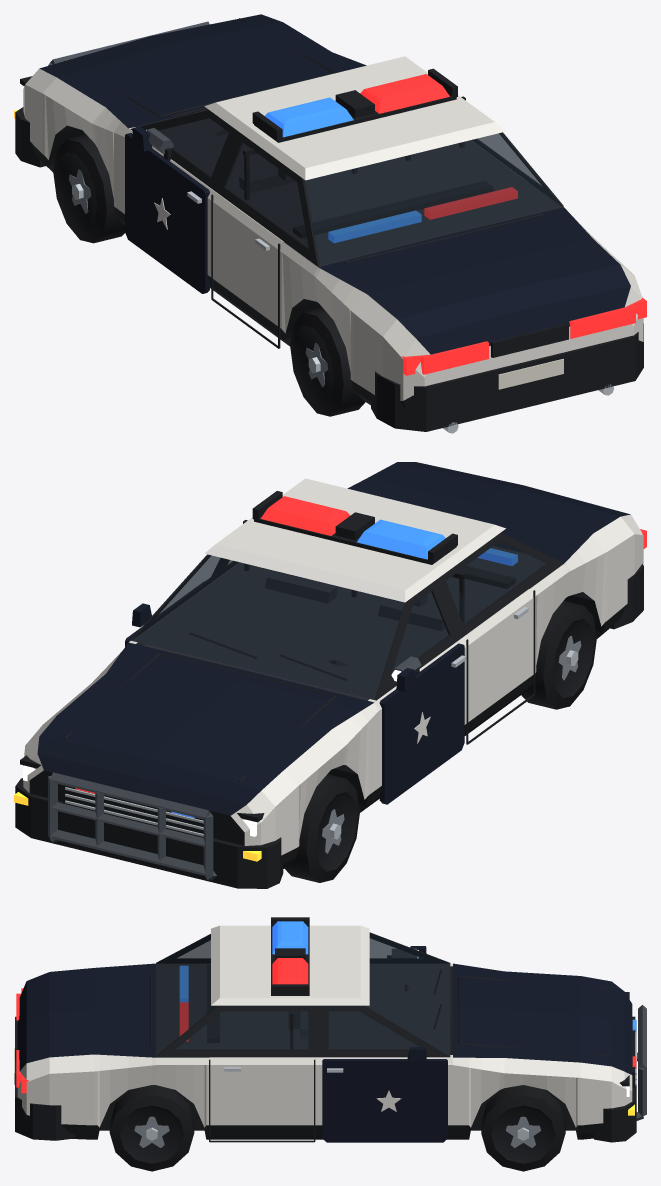
The model's file is police_cruiser.glb.
3 views of the same model, one above another, from view 1: azimuth 30°, elevation 25°; view 2: azimuth 150°, elevation 25°; view 3: azimuth 270°, elevation 25° (orthographic). The views are drawn at different scales.
Visible parts, largest first — view 1: Body, DoorL, Wheel_RL, Wheel_FL, SirenBar, SirenBar_R, SirenBar_L; view 2: Body, DoorL, Wheel_FL, Wheel_RL, SirenBar, SirenBar_R, SirenBar_L, DoorR; view 3: Body, DoorR, Wheel_RR, Wheel_FR, SirenBar, SirenBar_L, SirenBar_R, DoorL.
Boxes of the visible parts, x1,y1,x2,y2 form: Body: (14, 14, 646, 433); DoorL: (125, 110, 235, 293); Wheel_RL: (290, 307, 365, 416); Wheel_FL: (53, 134, 125, 243); SirenBar: (252, 68, 457, 142); SirenBar_R: (360, 74, 449, 113); SirenBar_L: (265, 97, 353, 137); Body: (14, 462, 646, 888); DoorL: (374, 581, 466, 804); Wheel_FL: (284, 774, 359, 882); Wheel_RL: (521, 601, 596, 709); SirenBar: (252, 491, 457, 564); SirenBar_R: (260, 496, 350, 535); SirenBar_L: (357, 519, 445, 559); DoorR: (125, 554, 224, 646); Body: (14, 925, 646, 1142); DoorR: (322, 1005, 450, 1142); Wheel_RR: (109, 1085, 194, 1171); Wheel_FR: (481, 1085, 565, 1171); SirenBar: (271, 917, 309, 995); SirenBar_L: (272, 921, 308, 954); SirenBar_R: (272, 958, 308, 984); DoorL: (369, 932, 450, 963).
Bounding box in the file's own units: 1.93 × 1.49 × 4.94.
